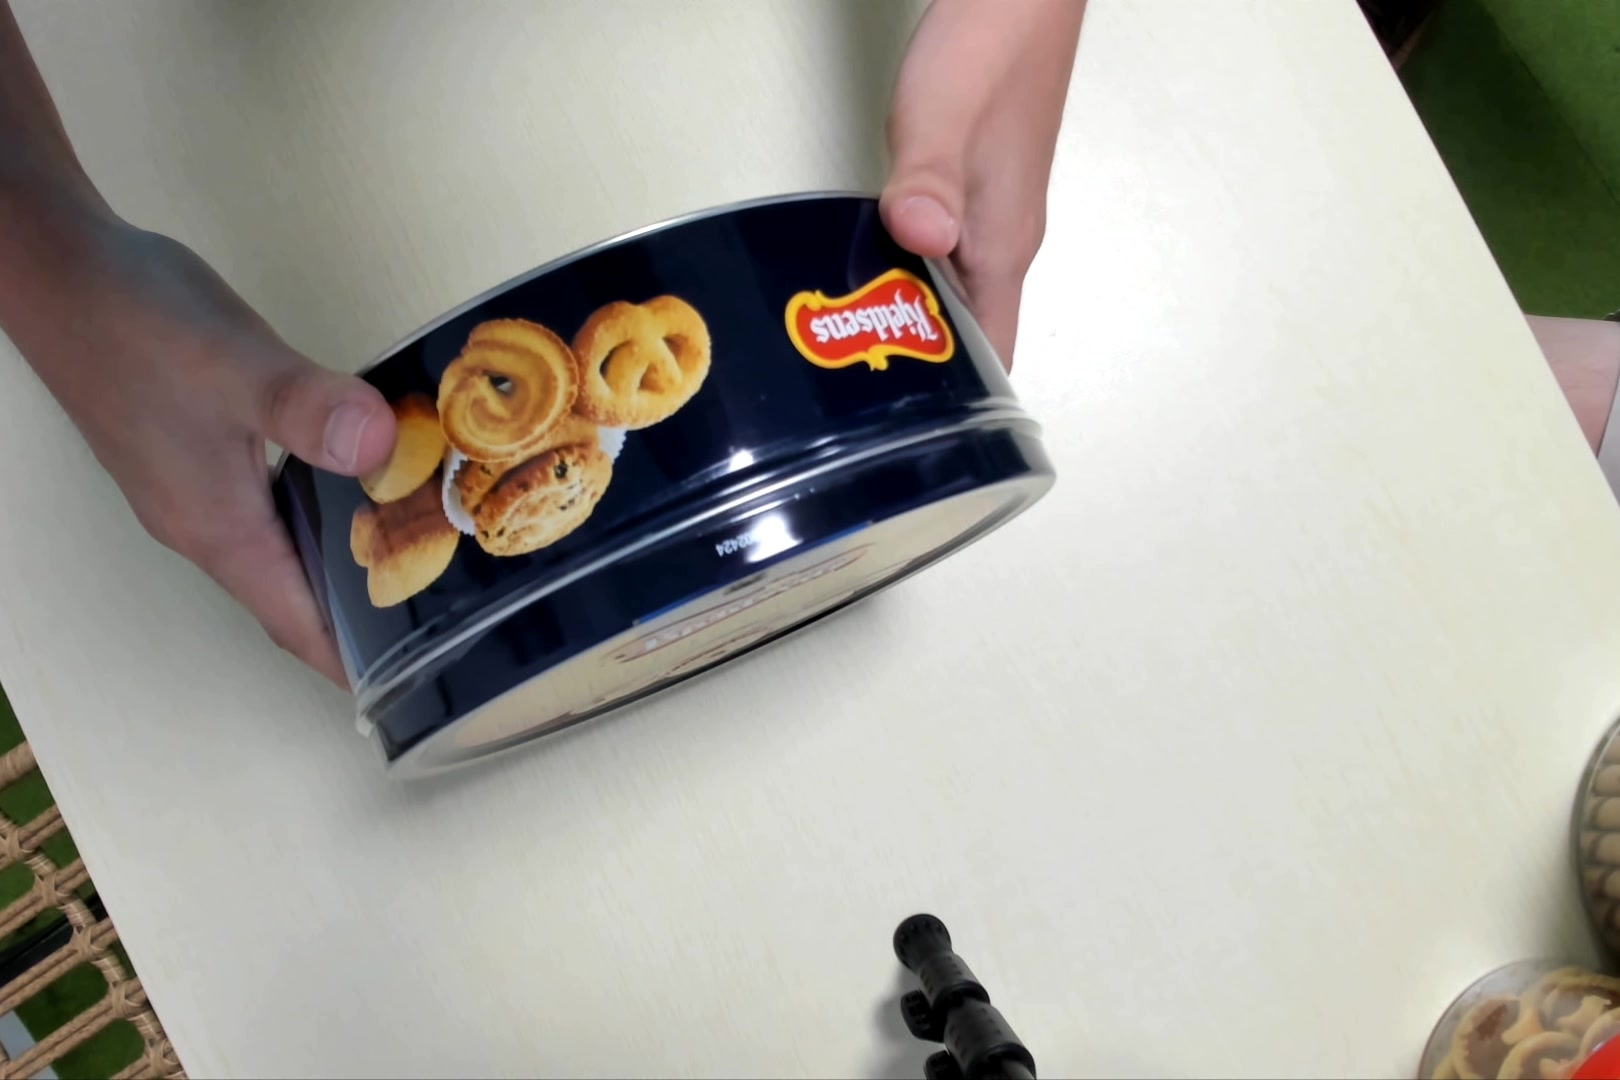BiscuitsCrackersCookies_400-499g_Halal_NonHealthy: (274, 186, 1052, 787)
